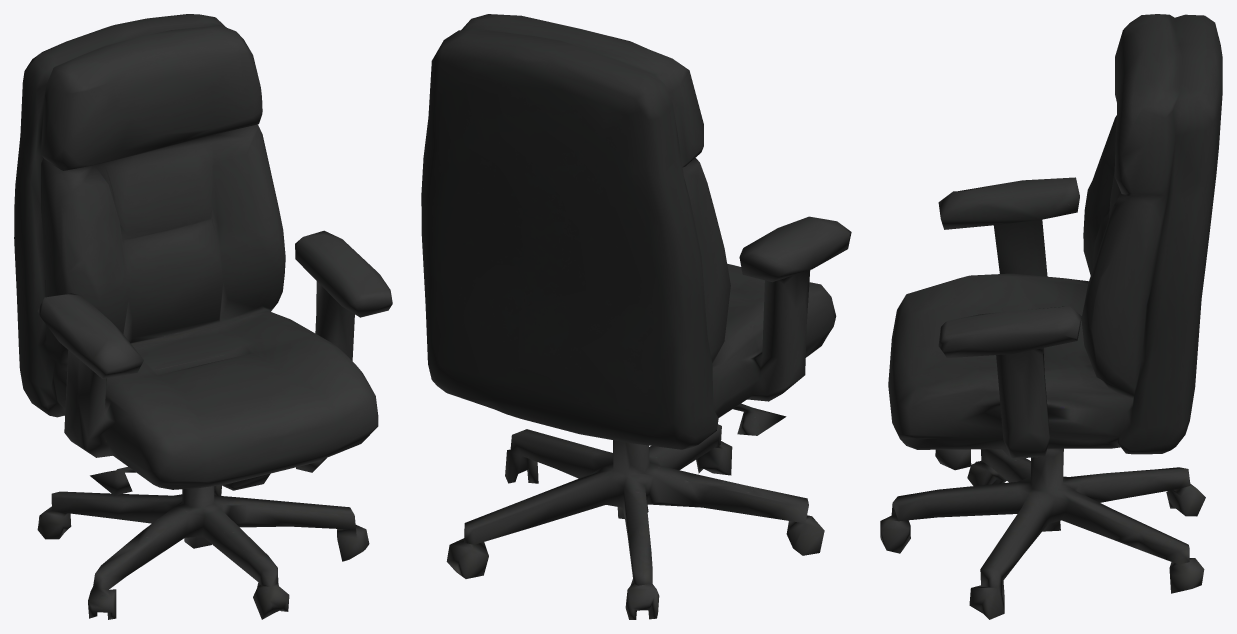
The model's file is exec_chair.glb.
3 views of the same model, side by side, from view 1: azimuth 30°, elevation 25°; view 2: azimuth 150°, elevation 25°; view 3: azimuth 270°, elevation 25° (orthographic). The views are drawn at different scales.
Parts seen in each view (by area): view 1: tripo_node_f625d38b-6078-4693-a1f9-004cdd63c2da; view 2: tripo_node_f625d38b-6078-4693-a1f9-004cdd63c2da; view 3: tripo_node_f625d38b-6078-4693-a1f9-004cdd63c2da.
Part boxes in pixels (x1,y1,x2,y2): tripo_node_f625d38b-6078-4693-a1f9-004cdd63c2da: (14, 14, 392, 619); tripo_node_f625d38b-6078-4693-a1f9-004cdd63c2da: (421, 14, 851, 619); tripo_node_f625d38b-6078-4693-a1f9-004cdd63c2da: (880, 14, 1222, 619).
Bounding box in the file's own units: 0.6459 × 1 × 0.6115.
Materials: 1 (1 with a texture image).
